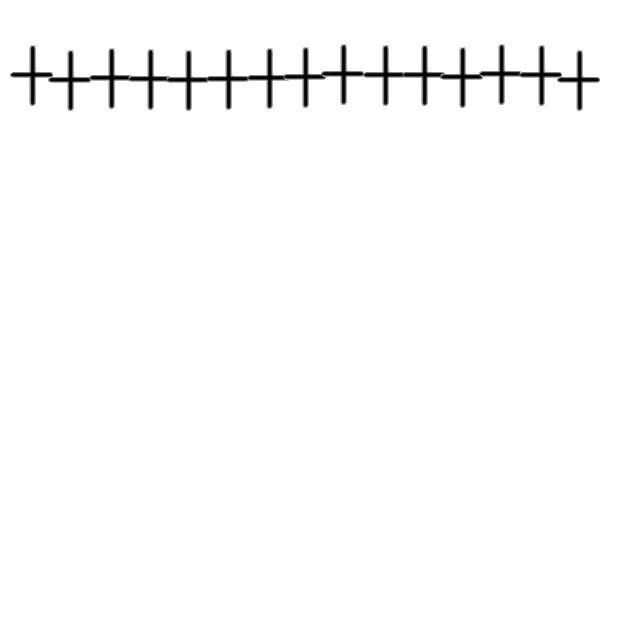double: (7, 45, 55, 107), (45, 50, 93, 112), (86, 48, 134, 110), (125, 49, 173, 111), (163, 50, 211, 112), (203, 49, 251, 111), (244, 48, 292, 110), (280, 47, 328, 109), (318, 44, 366, 106), (360, 45, 408, 107), (399, 45, 447, 107), (437, 47, 485, 109), (476, 44, 524, 106), (516, 45, 564, 107), (554, 50, 602, 112)
